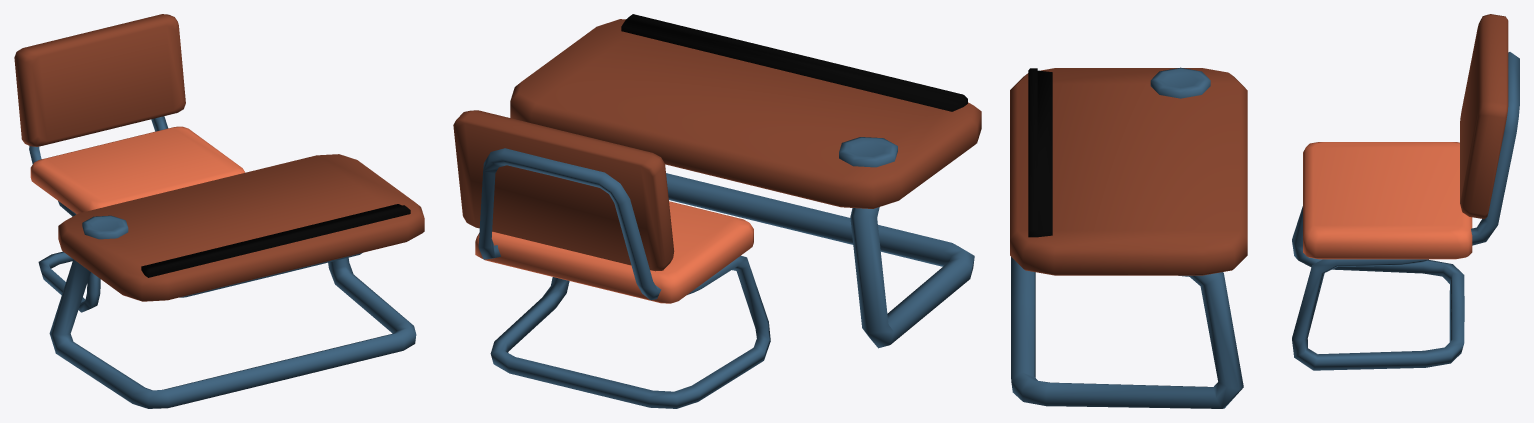
File: Desk.fbx
The picture shows the model from 3 angles, left to right: view 1: azimuth 30°, elevation 25°; view 2: azimuth 150°, elevation 25°; view 3: azimuth 270°, elevation 25°; orthographic projection. The views are drawn at different scales.
Parts seen in each view (by area): view 1: Desk; view 2: Desk; view 3: Desk.
Boxes of the visible parts, <box> form: Desk: <box>14,14,424,408</box>; Desk: <box>453,14,981,408</box>; Desk: <box>1010,14,1519,408</box>.
Bounding box in the file's own units: 6.51 × 4.37 × 7.56.
